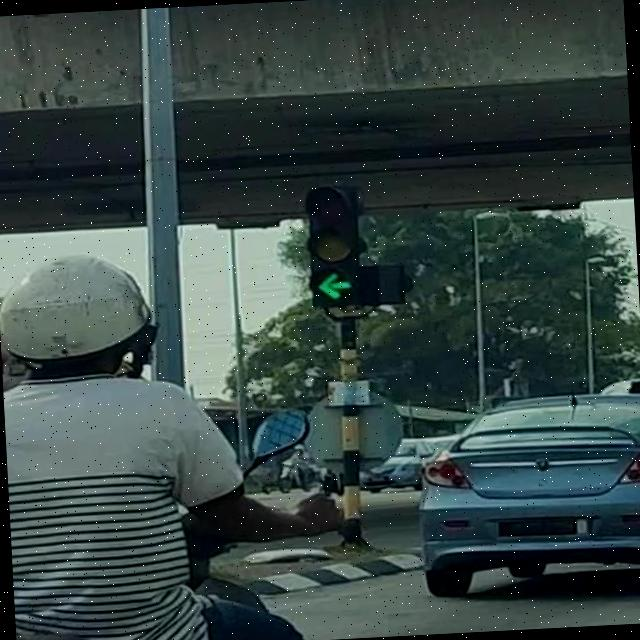green_light: (303, 183, 361, 310)
